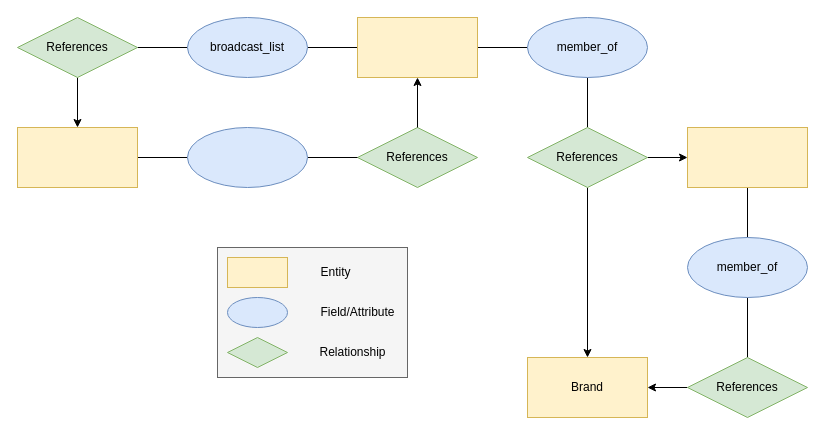
This 825x435 diagram has some shape labels left out. The shapes that lost their labels are listed below. From the top down, each one's box as (x1, y1, x2, y2) in pixels, then its label:
(356, 16, 478, 78): Episode
(16, 126, 138, 188): Schedule
(186, 126, 308, 188): broadcasts
(686, 126, 808, 188): Series
